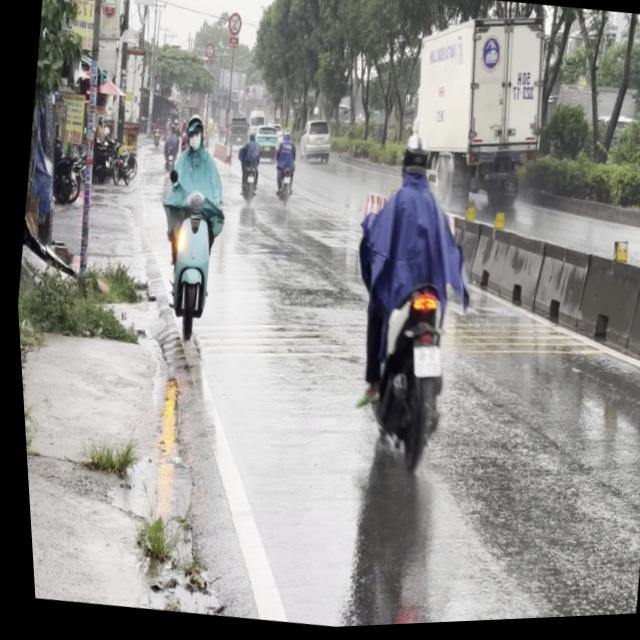helmet: (395, 132, 433, 186), (180, 111, 207, 152)
licenseplate: (319, 122, 484, 483), (132, 104, 244, 354)
nohelmet: (406, 346, 439, 382)
